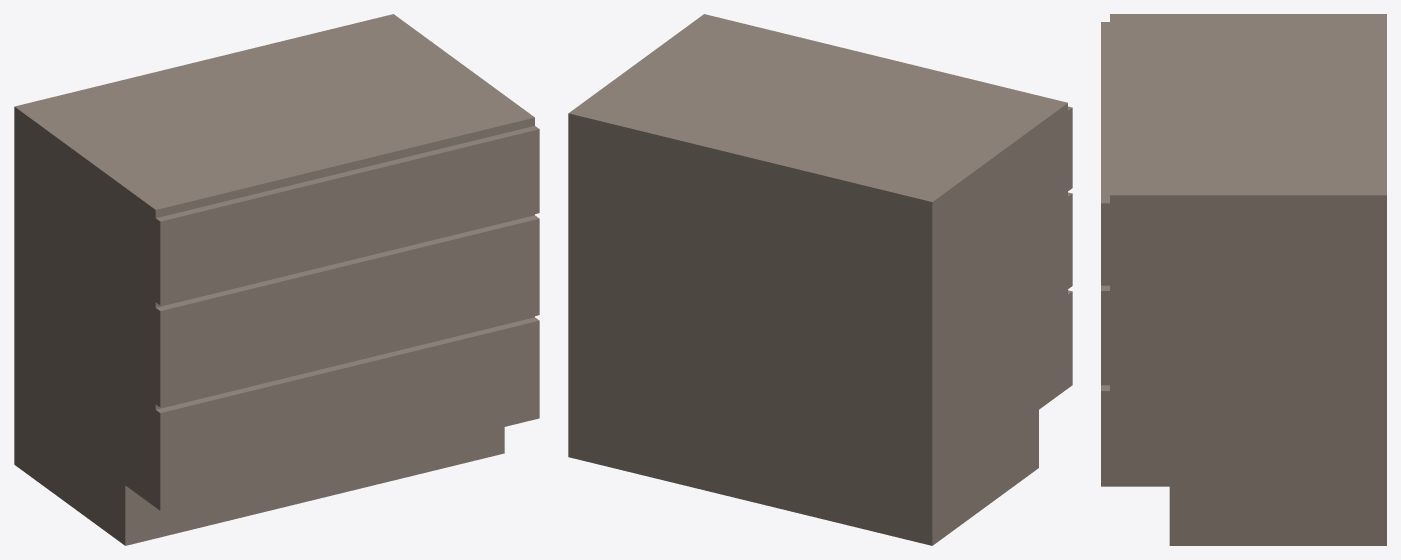
File: Universal-Design-Base-Cabinet-Three-Drawer-24-Deep_std_001_W36i.glb
The picture shows the model from 3 angles, left to right: view 1: azimuth 30°, elevation 25°; view 2: azimuth 150°, elevation 25°; view 3: azimuth 270°, elevation 25°; orthographic projection. The views are drawn at different scales.
Visible parts, largest first — view 1: Universal-Design-Base-Cabinet-Three-Drawer-24-Deep.std.001_W; view 2: Universal-Design-Base-Cabinet-Three-Drawer-24-Deep.std.001_W; view 3: Universal-Design-Base-Cabinet-Three-Drawer-24-Deep.std.001_W.
Boxes of the visible parts, x1=… form: Universal-Design-Base-Cabinet-Three-Drawer-24-Deep.std.001_W: x1=14, y1=14, x2=539, y2=545; Universal-Design-Base-Cabinet-Three-Drawer-24-Deep.std.001_W: x1=568, y1=14, x2=1072, y2=545; Universal-Design-Base-Cabinet-Three-Drawer-24-Deep.std.001_W: x1=1101, y1=14, x2=1386, y2=545.
Size of the model in its own units: 0.9144 by 0.8255 by 0.6096.
